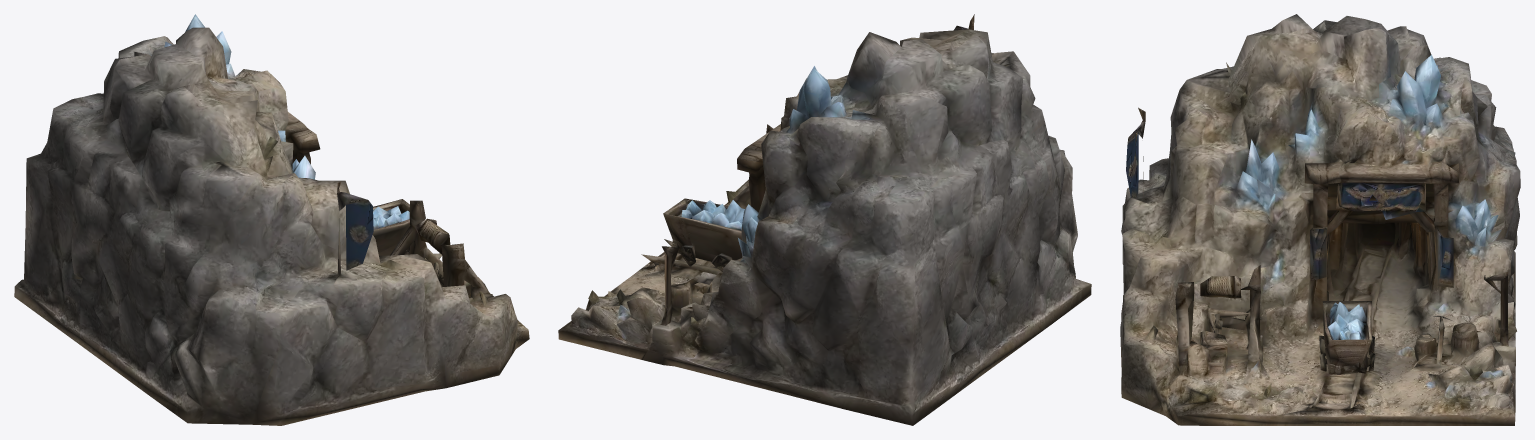
The model's file is dia_mine_ice.glb.
3 renders of one model, left to right at view 1: azimuth 30°, elevation 25°; view 2: azimuth 150°, elevation 25°; view 3: azimuth 270°, elevation 25°, orthographic. The views are drawn at different scales.
Parts seen in each view (by area): view 1: tripo_node_14ec2576-734b-4c71-9c83-62f5726281fd; view 2: tripo_node_14ec2576-734b-4c71-9c83-62f5726281fd; view 3: tripo_node_14ec2576-734b-4c71-9c83-62f5726281fd.
Boxes of the visible parts, <box> form: tripo_node_14ec2576-734b-4c71-9c83-62f5726281fd: <box>14,14,529,425</box>; tripo_node_14ec2576-734b-4c71-9c83-62f5726281fd: <box>558,14,1091,425</box>; tripo_node_14ec2576-734b-4c71-9c83-62f5726281fd: <box>1120,14,1520,425</box>.
Bounding box in the file's own units: 0.9576 × 0.7807 × 0.9797.
Materials: 1 (1 with a texture image).
